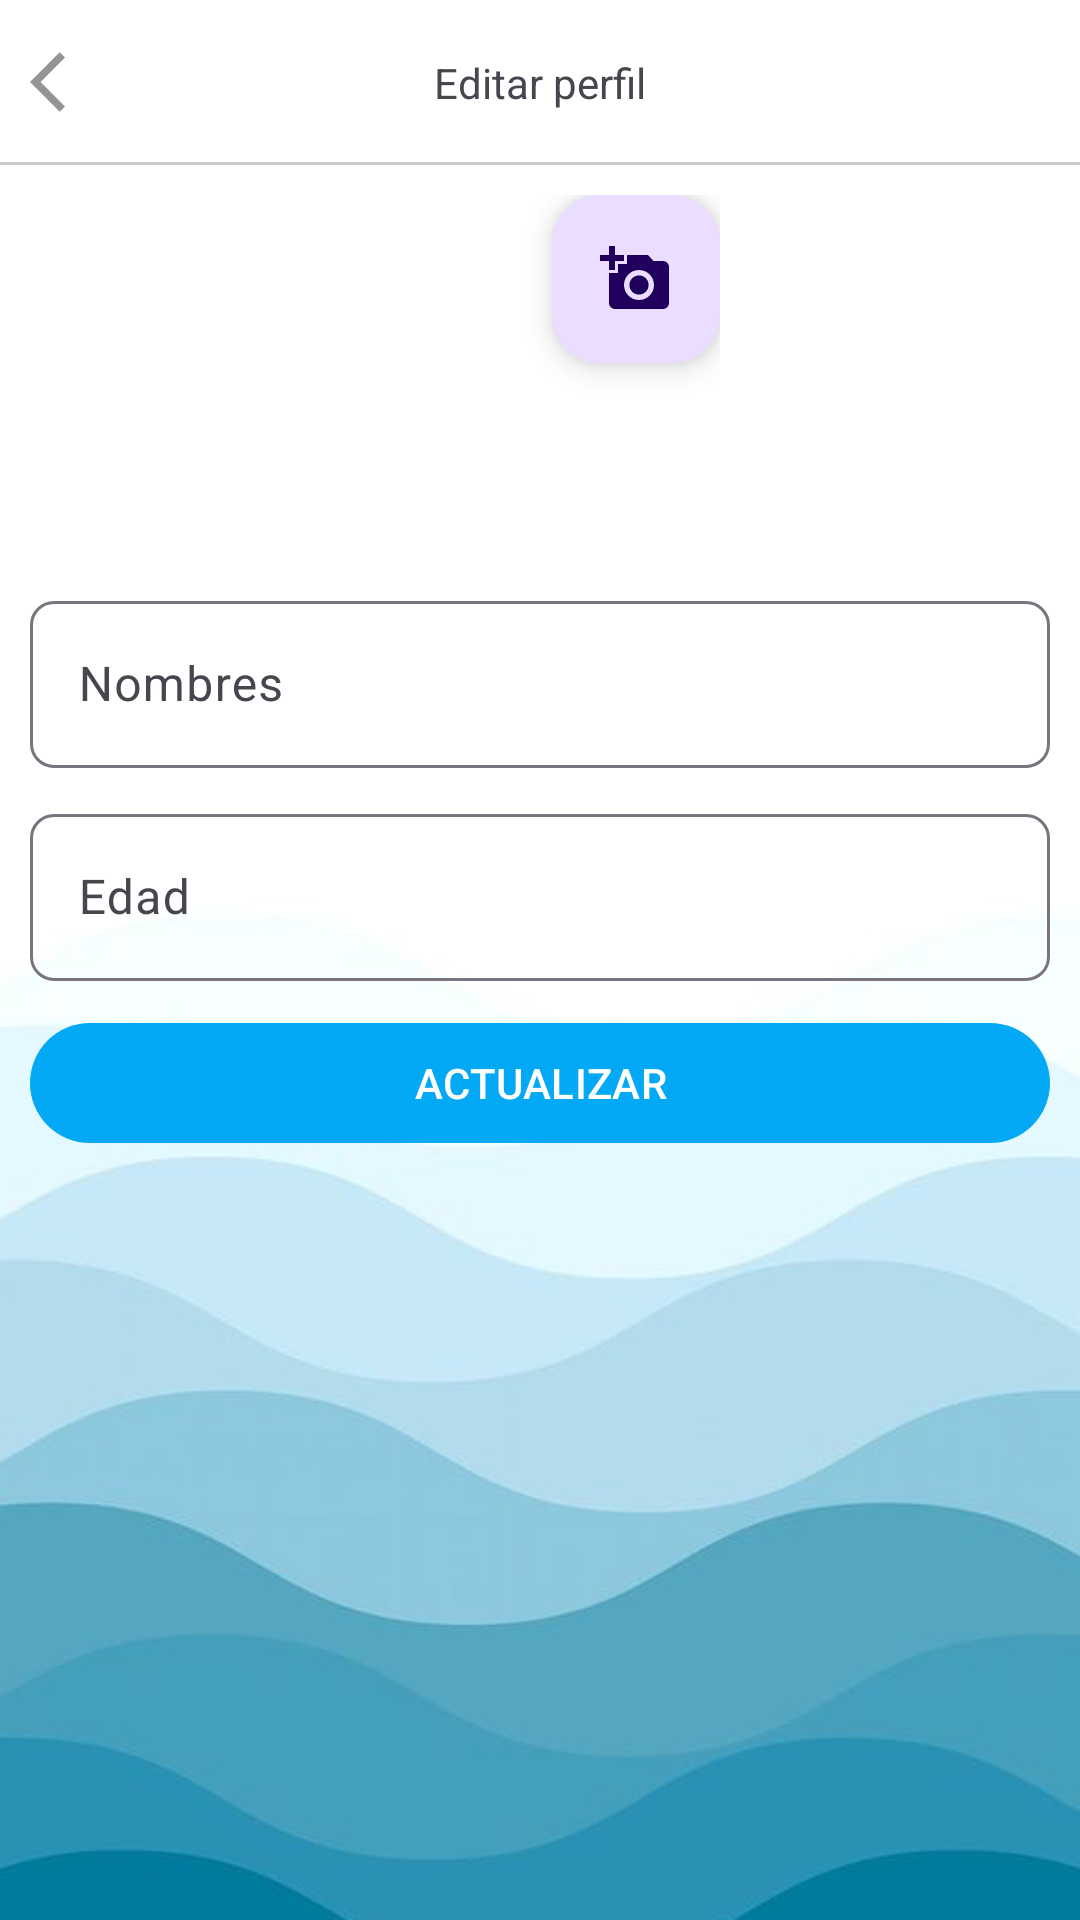

Point at icon controls on the screen. Image size 1080 × 1920, points as (x=x, y=y).
regresar: (x=47, y=82)
